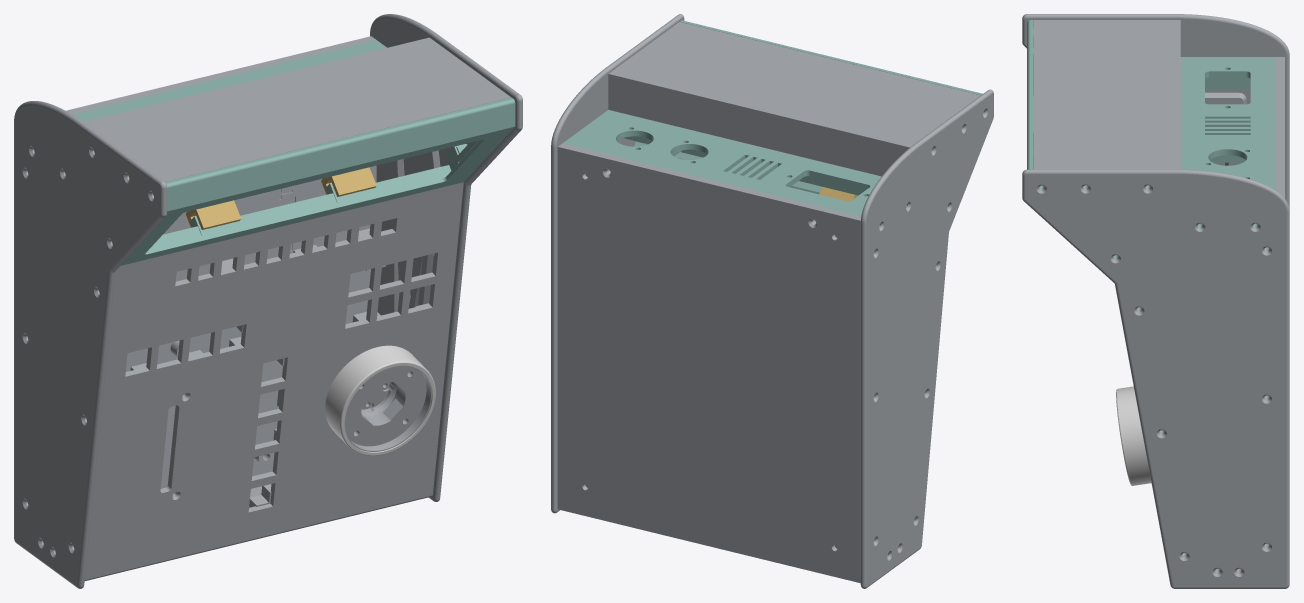
The model's file is manufactured-surfaces.glb.
The picture shows the model from 3 angles, left to right: view 1: azimuth 30°, elevation 25°; view 2: azimuth 150°, elevation 25°; view 3: azimuth 270°, elevation 25°; orthographic projection. The views are drawn at different scales.
Visible parts, largest first — view 1: 08_Deck, 02_Fianco_SX, 29_Retro_a_L, 09_Console_schermo, 01_Base, 02_Fianco_DX, 13_Ruota_jog, 13C, 06_Retro_IO, 04_Frontale, 27L_Fermo_INF_1, 27L_Fermo_INF_2; view 2: 01_Base, 02_Fianco_SX, 29_Retro_a_L, 06_Retro_IO, 02_Fianco_DX, 04_Frontale, 09_Console_schermo; view 3: 02_Fianco_DX, 29_Retro_a_L, 06_Retro_IO, 02_Fianco_SX, 13C, 01_Base, 09_Console_schermo.
Part boxes in pixels (x1,y1,x2,y2): 08_Deck: (85, 182, 463, 575); 02_Fianco_SX: (14, 101, 166, 588); 29_Retro_a_L: (83, 37, 510, 181); 09_Console_schermo: (120, 97, 515, 265); 01_Base: (66, 36, 385, 494); 02_Fianco_DX: (370, 14, 522, 501); 13_Ruota_jog: (344, 365, 431, 451); 13C: (325, 345, 435, 455); 06_Retro_IO: (72, 40, 386, 121); 04_Frontale: (84, 486, 432, 580); 27L_Fermo_INF_1: (185, 200, 241, 229); 27L_Fermo_INF_2: (321, 167, 376, 196); 01_Base: (557, 143, 861, 577); 02_Fianco_SX: (860, 89, 993, 588); 29_Retro_a_L: (608, 22, 980, 176); 06_Retro_IO: (563, 110, 880, 215); 02_Fianco_DX: (551, 14, 684, 513); 04_Frontale: (557, 503, 860, 583); 09_Console_schermo: (634, 20, 982, 195); 02_Fianco_DX: (1022, 169, 1289, 588); 29_Retro_a_L: (1034, 20, 1180, 188); 06_Retro_IO: (1181, 57, 1274, 226); 02_Fianco_SX: (1022, 14, 1289, 207); 13C: (1116, 386, 1151, 485); 01_Base: (1264, 57, 1284, 546); 09_Console_schermo: (1027, 20, 1118, 258).
Size of the model in its own units: 230 by 284 by 164.
